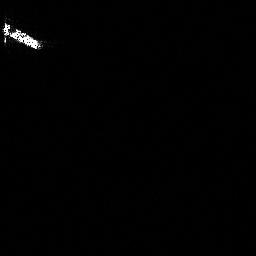ship: (1, 18, 45, 52)
